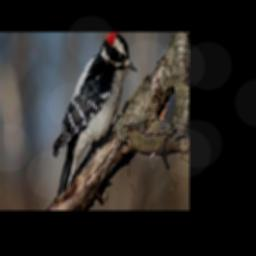Woodpecker: (51, 32, 139, 199)
